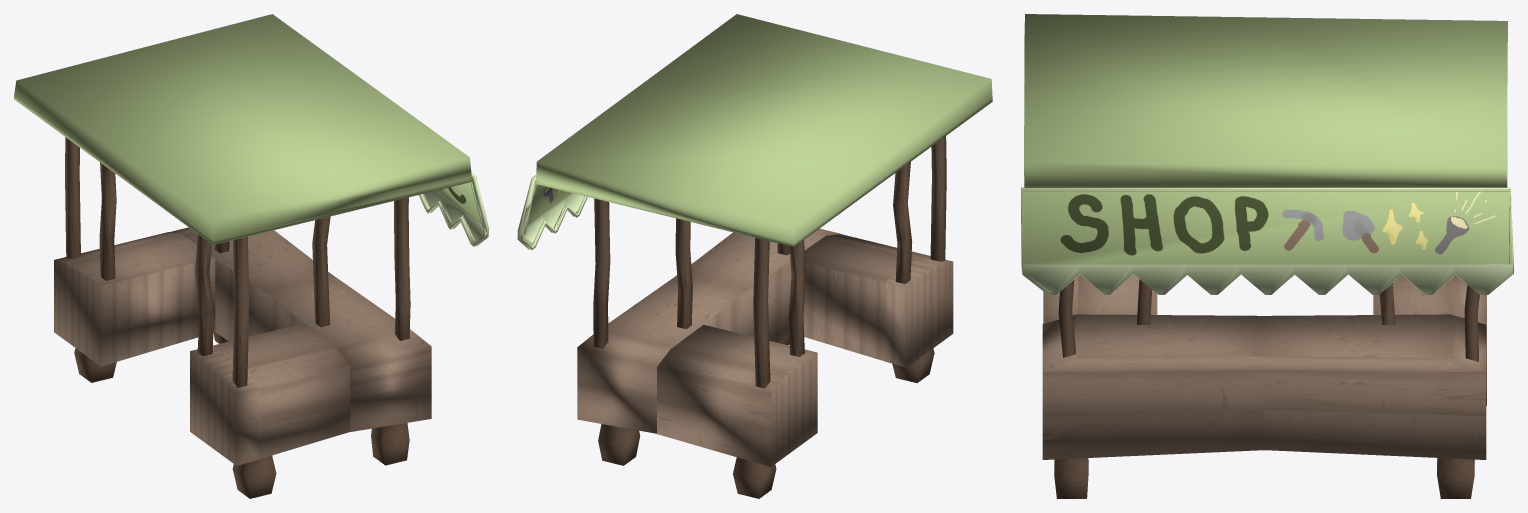
File: Shop.fbx
The picture shows the model from 3 angles, left to right: view 1: azimuth 30°, elevation 25°; view 2: azimuth 150°, elevation 25°; view 3: azimuth 270°, elevation 25°; orthographic projection. The views are drawn at different scales.
Visible parts, largest first — view 1: Plane.001, Plane, Cube.006, Cube, Cube.005, Cube.002, Cube.001, Cube.004, Cube.010, Cube.008, Cube.009; view 2: Plane.001, Plane, Cube.002, Cube.012, Cube.006, Cube.005, Cube.001, Cube.003, Cube.007, Cube.009, Cube.010; view 3: Plane.001, Plane, Cube.007, Cube.008, Cube, Cube.012, Cube.004.
Boxes of the visible parts, x1,y1,x2,y2 form: Plane.001: (14,14,488,246); Plane: (54,227,431,465); Cube.006: (232,236,249,387); Cube: (394,197,410,340); Cube.005: (194,234,213,356); Cube.002: (65,137,80,258); Cube.001: (99,162,116,280); Cube.004: (312,216,330,326); Cube.010: (232,455,276,498); Cube.008: (371,423,409,465); Cube.009: (74,348,116,382); Plane.001: (517,14,992,250); Plane: (577,228,953,466); Cube.002: (753,237,770,388); Cube.012: (593,198,610,348); Cube.006: (930,136,946,261); Cube.005: (893,162,912,283); Cube.001: (788,240,806,356); Cube.003: (675,218,692,329); Cube.007: (598,424,640,465); Cube.009: (733,457,776,498); Cube.010: (892,348,934,382); Plane.001: (1021,14,1513,294); Plane: (1042,274,1486,459); Cube.007: (1437,458,1474,498); Cube.008: (1054,458,1088,498); Cube: (1058,280,1075,357); Cube.012: (1464,284,1479,361); Cube.004: (1137,279,1152,324).
Size of the model in its own units: 1232 by 1283 by 1569.
16 materials, 16 textured.
